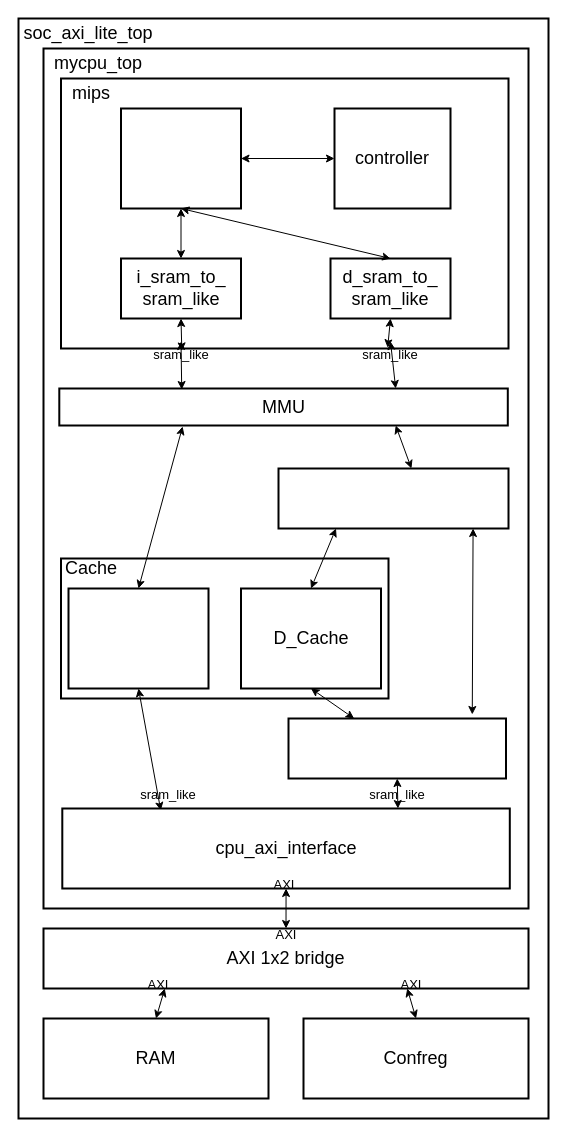
Some shapes in this 566 by 1136 pixel diagram are drawn without their labels. The shapes that lost their labels are listed below. From the top down, each one's centre as x and y in pixels, then its label:
(181,158): datapath
(393,498): 1x2 bridge
(138,638): I_Cache
(396,748): 2x1 bridge
